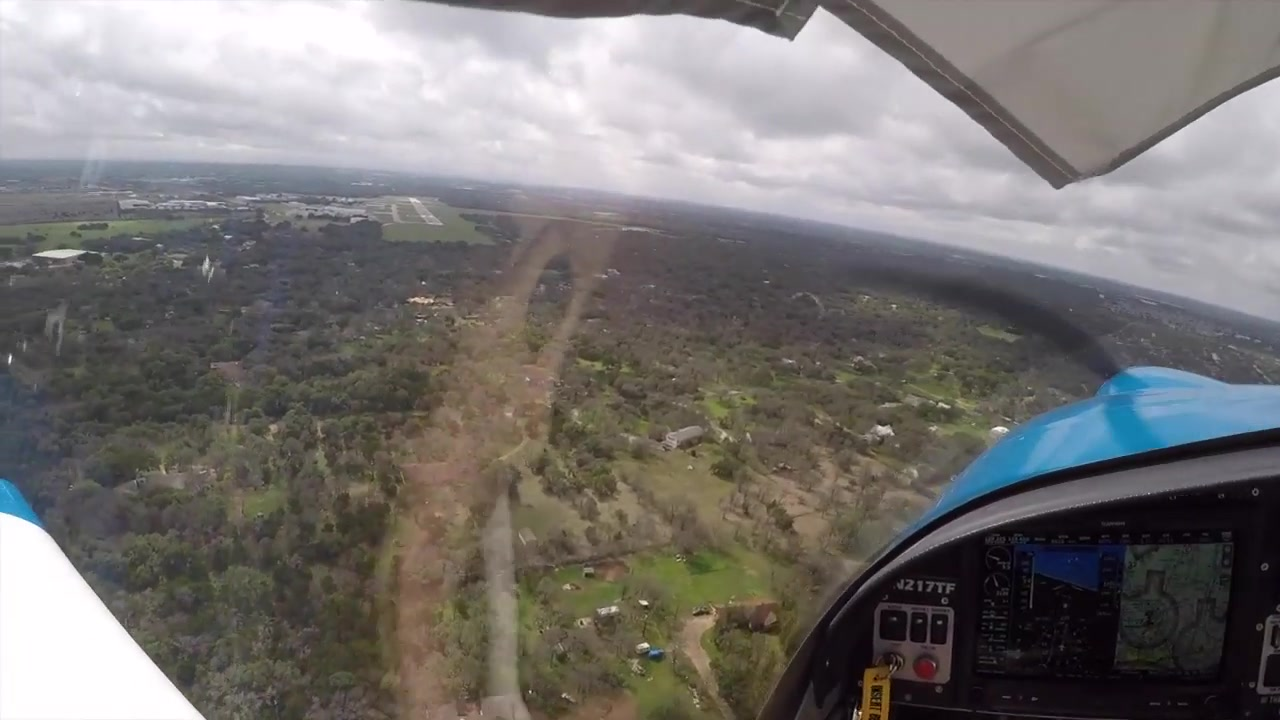runway: (409, 197, 444, 227)
